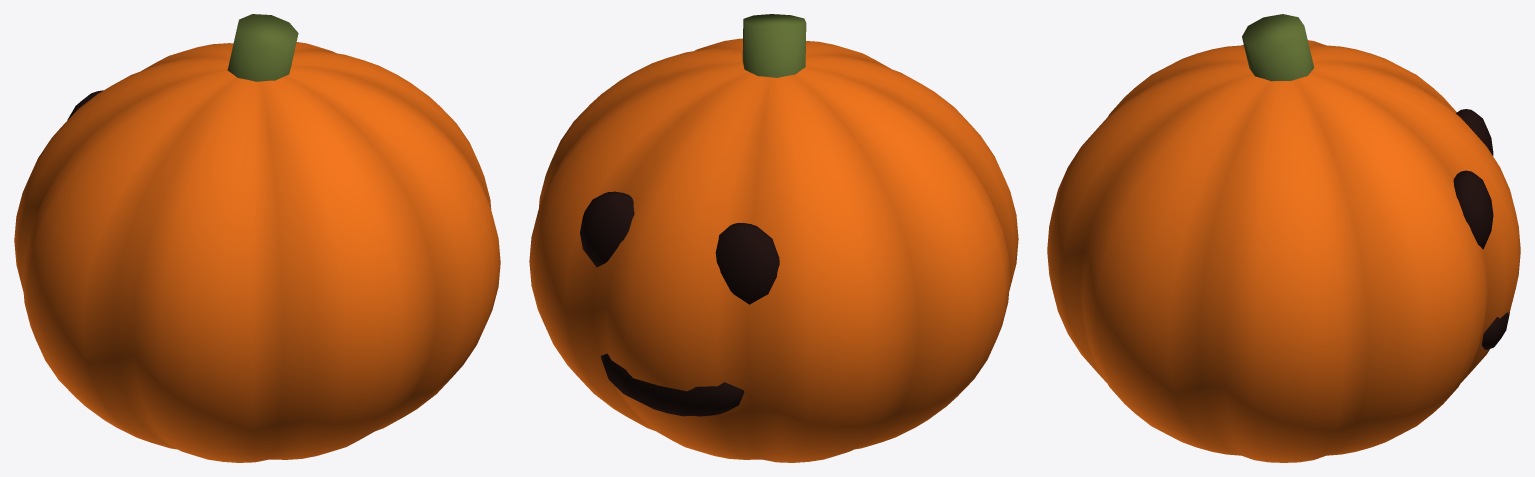
The model's file is pumpkin.glb.
3 views of the same model, side by side, from view 1: azimuth 30°, elevation 25°; view 2: azimuth 150°, elevation 25°; view 3: azimuth 270°, elevation 25° (orthographic).
Parts seen in each view (by area): view 1: Pumpkin; view 2: Pumpkin; view 3: Pumpkin.
Part boxes in pixels (<box>): Pumpkin: <box>14,14,500,462</box>; Pumpkin: <box>529,14,1018,462</box>; Pumpkin: <box>1047,14,1520,462</box>.
Bounding box in the file's own units: 0.546 × 0.4998 × 0.52.
